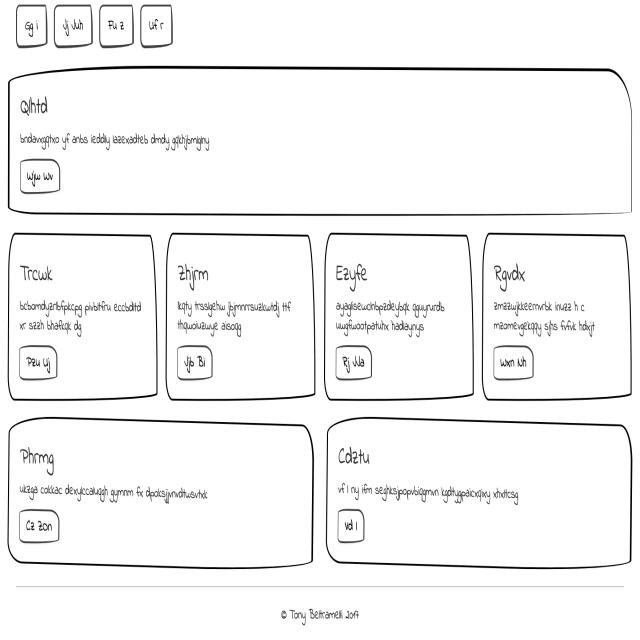Button: (16, 157, 65, 195), (332, 342, 374, 381), (16, 343, 59, 381), (492, 343, 534, 380), (16, 508, 60, 540), (174, 346, 214, 381), (336, 502, 365, 542)
Card: (9, 64, 632, 218), (5, 413, 315, 572), (327, 414, 632, 572), (483, 226, 633, 402), (166, 228, 316, 402), (8, 229, 157, 401), (324, 229, 474, 396)
Footer: (0, 581, 640, 640)
Heading 6: (18, 442, 62, 475), (332, 256, 368, 294), (492, 261, 536, 292), (16, 91, 50, 121), (18, 260, 54, 288), (336, 440, 373, 467), (178, 263, 212, 292)
Navigation Bar: (14, 1, 172, 48)
Paragraph: (174, 292, 296, 342), (13, 478, 243, 504), (17, 298, 146, 340), (333, 294, 445, 341), (335, 478, 527, 504), (488, 295, 603, 333), (20, 135, 223, 153)
